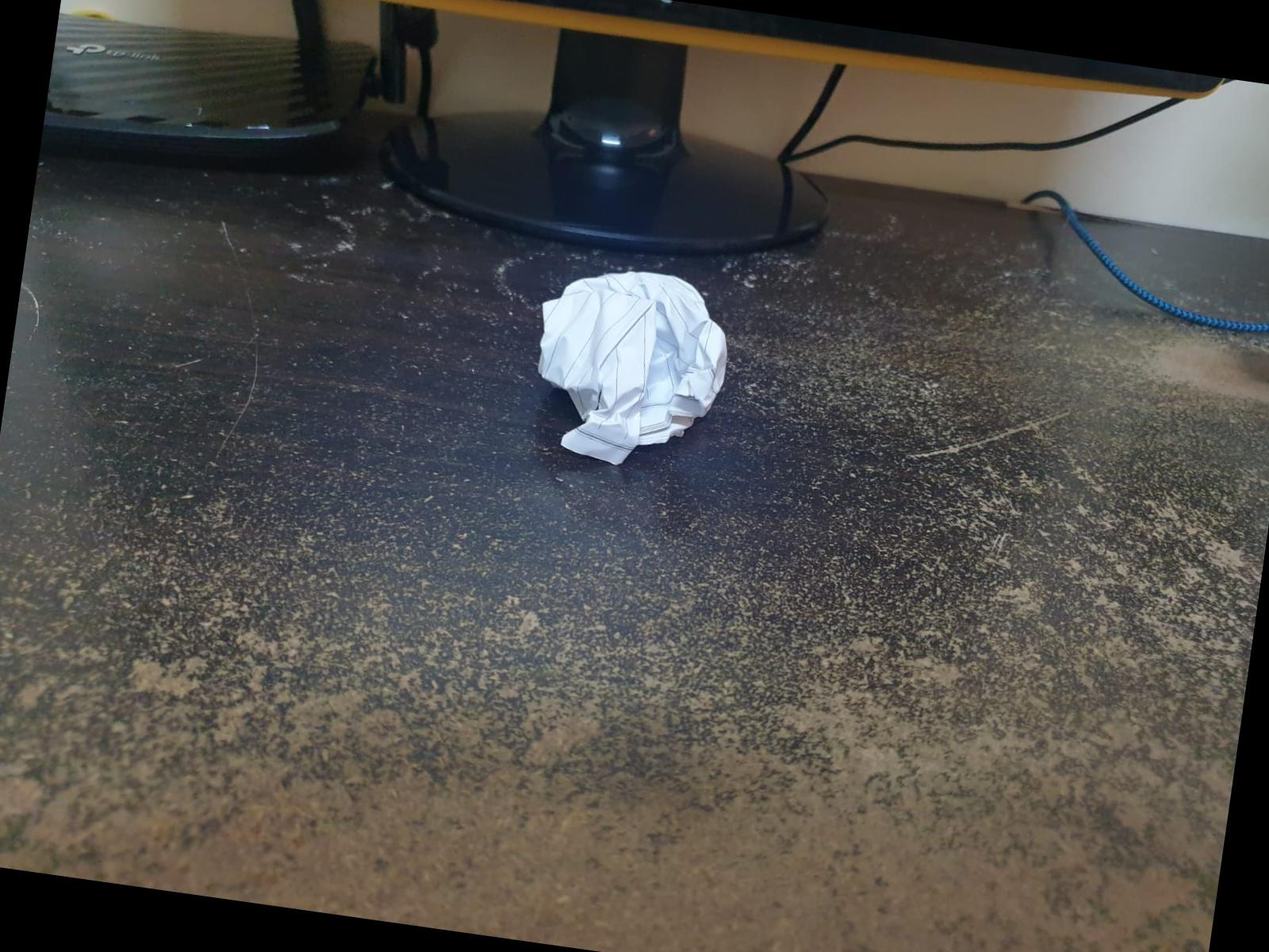Kertas: (538, 271, 726, 464)
